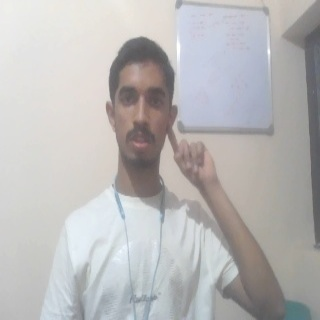Deaf: (167, 121, 221, 189)
Face: (104, 36, 178, 173)
